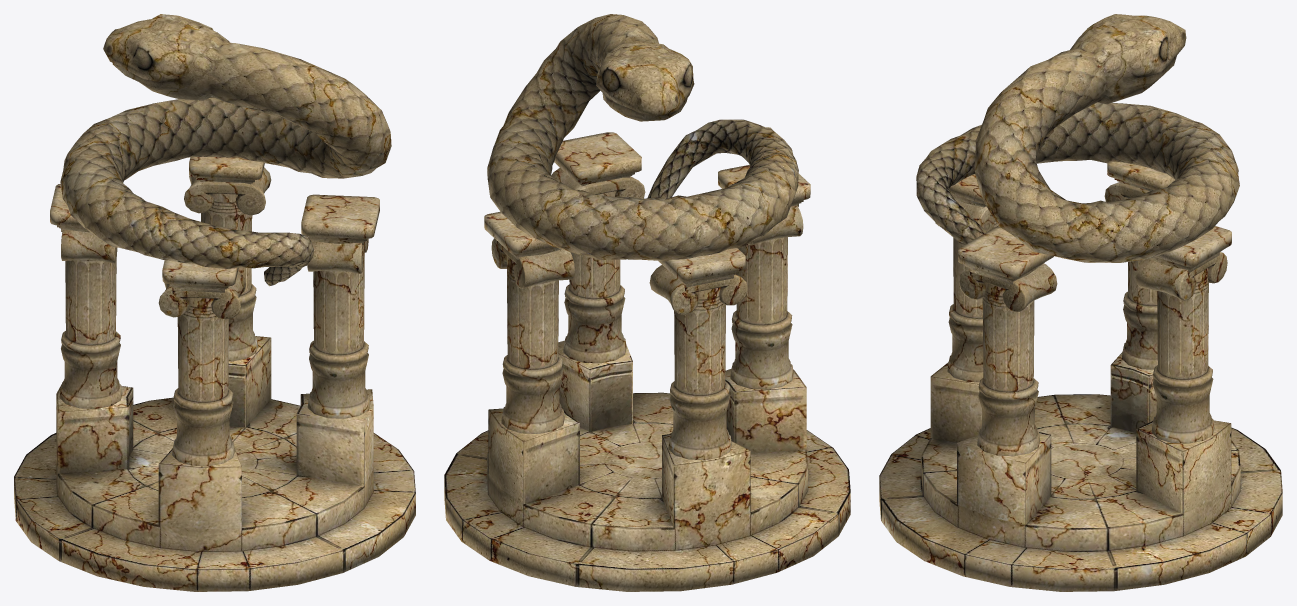
File: serpent.glb
3 renders of one model, left to right at view 1: azimuth 30°, elevation 25°; view 2: azimuth 150°, elevation 25°; view 3: azimuth 270°, elevation 25°, orthographic.
Parts seen in each view (by area): view 1: stone, snakelp; view 2: stone, snakelp; view 3: stone, snakelp.
Part boxes in pixels (x1,y1,x2,y2): stone: (14,156,415,591); snakelp: (60,14,391,286); stone: (444,132,850,591); snakelp: (487,14,798,261); stone: (879,161,1282,591); snakelp: (916,14,1239,262).
Bounding box in the file's own units: 7.15 × 9.24 × 7.15.
2 materials, 2 textured.
